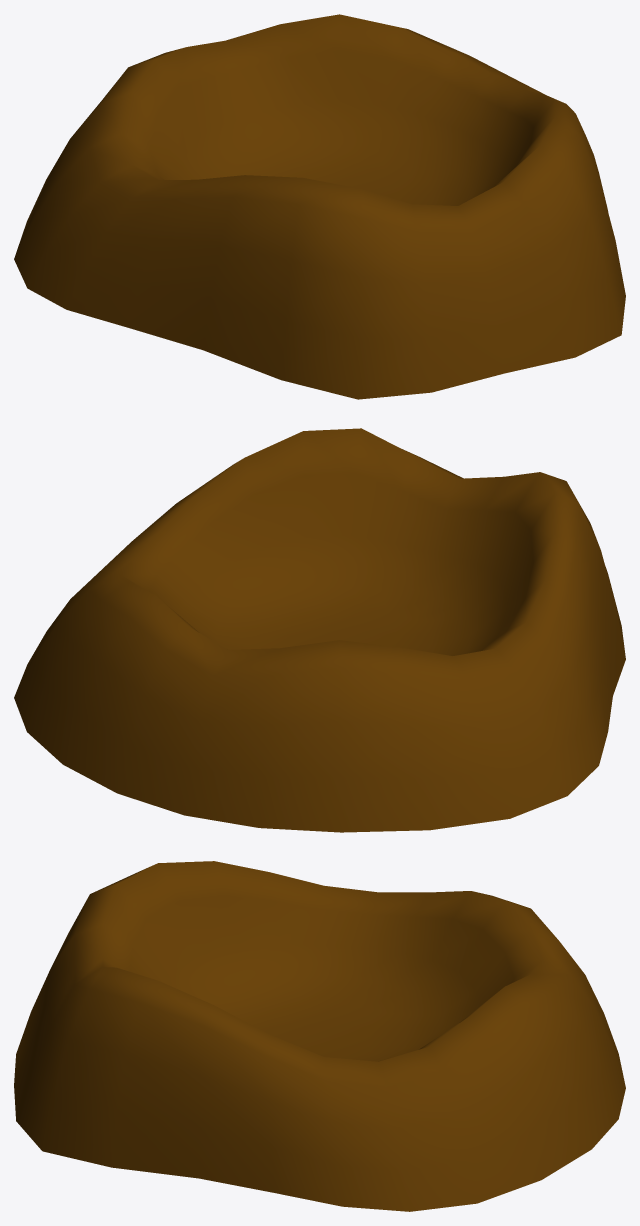
The model's file is crater.fbx.
The picture shows the model from 3 angles, top to bottom: view 1: azimuth 30°, elevation 25°; view 2: azimuth 150°, elevation 25°; view 3: azimuth 270°, elevation 25°; orthographic projection. The views are drawn at different scales.
Parts seen in each view (by area): view 1: Crater; view 2: Crater; view 3: Crater.
Part boxes in pixels (x1,y1,x2,y2): Crater: [14, 14, 625, 399]; Crater: [14, 428, 625, 832]; Crater: [14, 861, 625, 1211].
Bounding box in the file's own units: 522 × 162 × 536.
